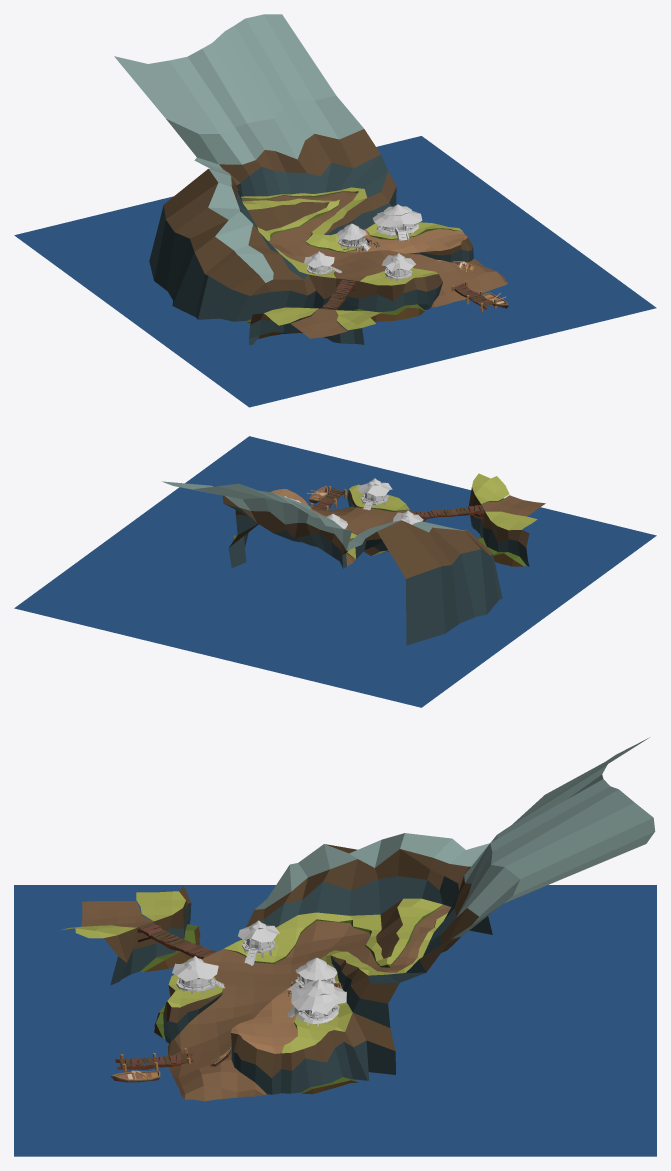
The model's file is wioska3_withoutJetro.fbx.
The picture shows the model from 3 angles, top to bottom: view 1: azimuth 30°, elevation 25°; view 2: azimuth 150°, elevation 25°; view 3: azimuth 270°, elevation 25°; orthographic projection. The views are drawn at different scales.
Visible parts, largest first — view 1: mapa, woda, Domek_3, DOMEK_2, DOMEK_STOK.001; view 2: woda, mapa, DOMEK_2, most, most_2; view 3: woda, mapa, Domek_3, DOMEK_2, DOMEK_2.001, most, most_2, DOMEK_STOK.001.
Part boxes in pixels (x1,y1,x2,y2): mapa: [114, 14, 508, 345]; woda: [14, 136, 656, 407]; Domek_3: [372, 204, 422, 241]; DOMEK_2: [381, 253, 415, 281]; DOMEK_STOK.001: [336, 223, 370, 250]; woda: [14, 436, 656, 707]; mapa: [161, 473, 545, 645]; DOMEK_2: [358, 478, 392, 510]; most: [411, 505, 484, 521]; most_2: [310, 486, 346, 510]; woda: [14, 885, 656, 1156]; mapa: [60, 737, 655, 1101]; Domek_3: [287, 979, 346, 1026]; DOMEK_2: [172, 956, 224, 993]; DOMEK_2.001: [238, 920, 279, 965]; most: [137, 922, 216, 959]; most_2: [115, 1048, 193, 1072]; DOMEK_STOK.001: [287, 957, 337, 991].
Size of the model in its own units: 71121 by 28544 by 71121.
